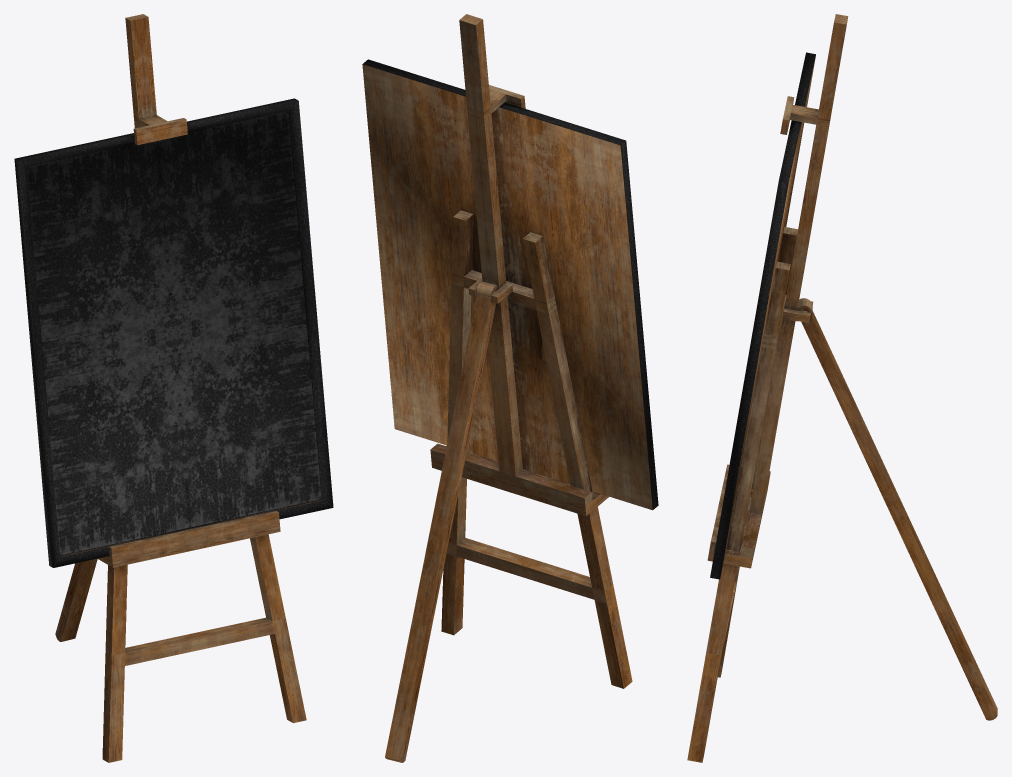
File: easel_compressed_resized.glb
The picture shows the model from 3 angles, left to right: view 1: azimuth 30°, elevation 25°; view 2: azimuth 150°, elevation 25°; view 3: azimuth 270°, elevation 25°; orthographic projection. The views are drawn at different scales.
Visible parts, largest first — view 1: main, legs, back; view 2: main, legs, back; view 3: legs, back, main.
Part boxes in pixels (x1,y1,x2,y2): main: (14, 98, 333, 567); legs: (98, 14, 306, 762); back: (55, 558, 97, 641); main: (362, 59, 658, 510); legs: (430, 14, 632, 688); back: (385, 281, 497, 762); legs: (687, 14, 848, 762); back: (797, 298, 997, 720); main: (710, 52, 815, 579).
Size of the model in its own units: 0.7937 by 1.91 by 0.7682.
Materials: 1 (1 with a texture image).
